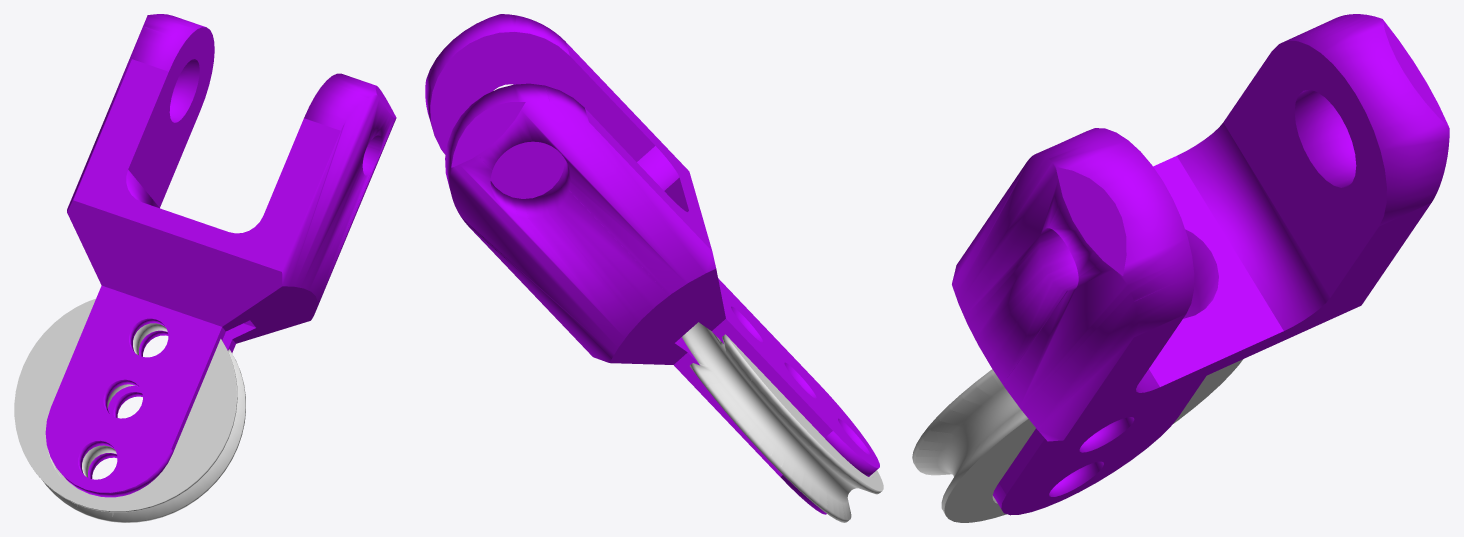
Rendered from wrist_blender.dae.
The picture shows the model from 3 angles, left to right: view 1: azimuth 30°, elevation 25°; view 2: azimuth 150°, elevation 25°; view 3: azimuth 270°, elevation 25°; orthographic projection. The views are drawn at different scales.
Visible parts, largest first — view 1: Actor1, Actor0; view 2: Actor1, Actor0; view 3: Actor1, Actor0.
Part boxes in pixels (x1,y1,x2,y2): Actor1: [45, 14, 396, 497]; Actor0: [14, 298, 245, 522]; Actor1: [425, 14, 879, 514]; Actor0: [682, 322, 883, 522]; Actor1: [952, 14, 1449, 515]; Actor0: [912, 359, 1242, 522].
Bounding box in the file's own units: 0.0159 × 0.0127 × 0.0158.
